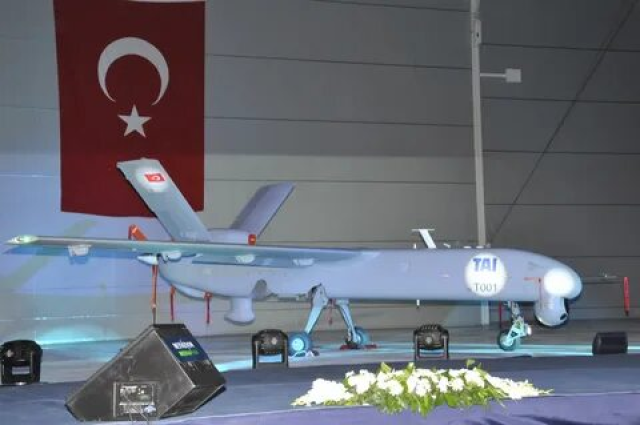military drone: (0, 157, 629, 356)
